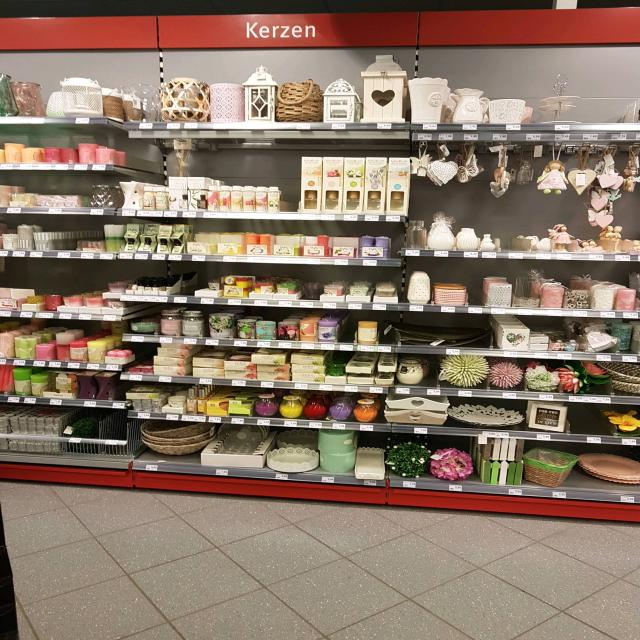empty: (566, 399, 614, 438), (280, 156, 303, 220), (97, 412, 127, 458)
